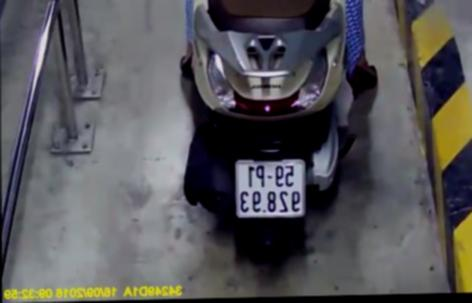License_Plate: (229, 156, 311, 224)
